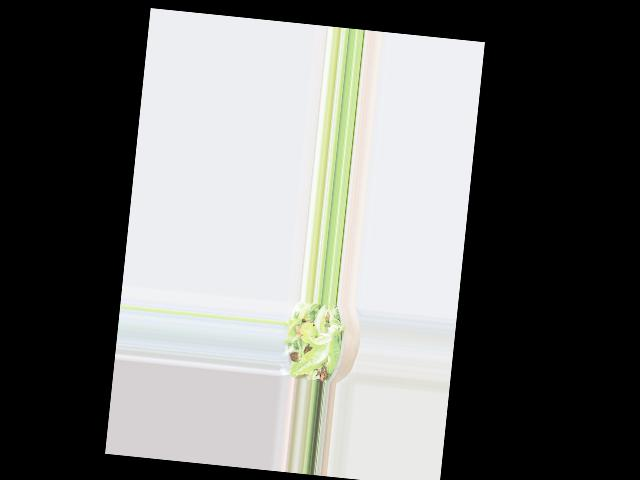lettuce: (284, 304, 345, 376)
